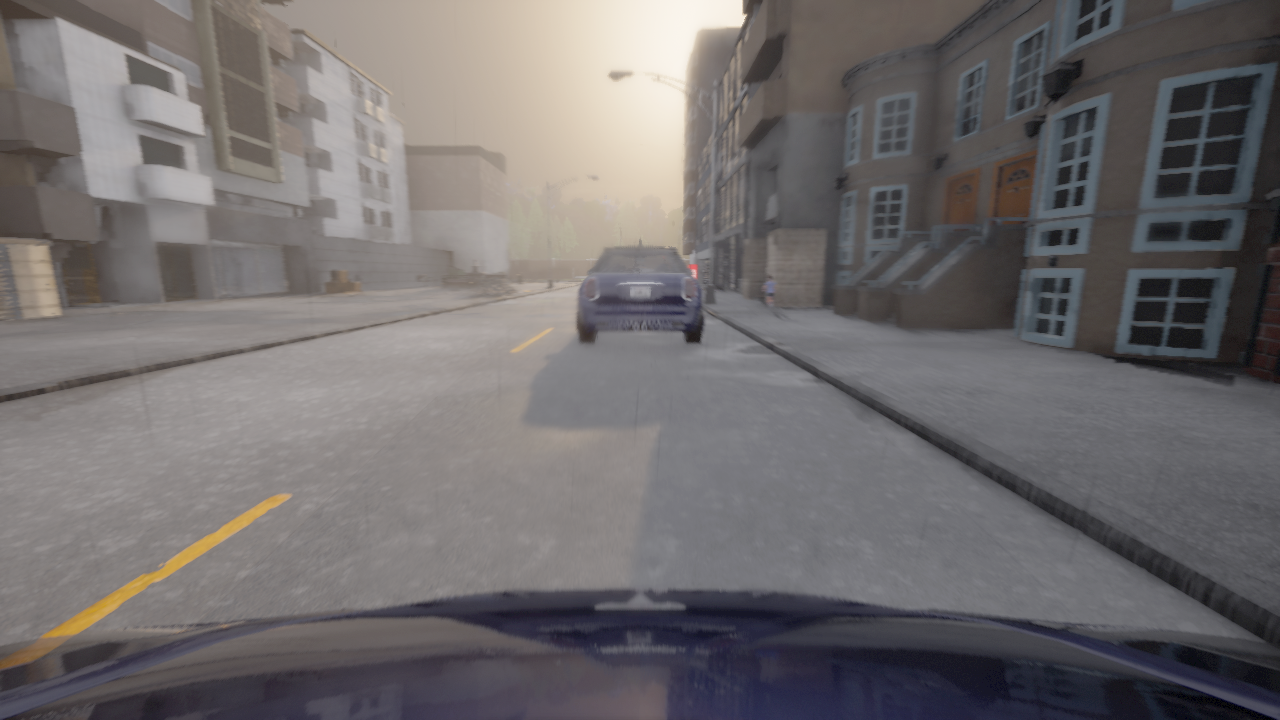cyclist: (0, 588, 1279, 719), (577, 244, 702, 343)
pedestrian: (763, 275, 777, 308)
